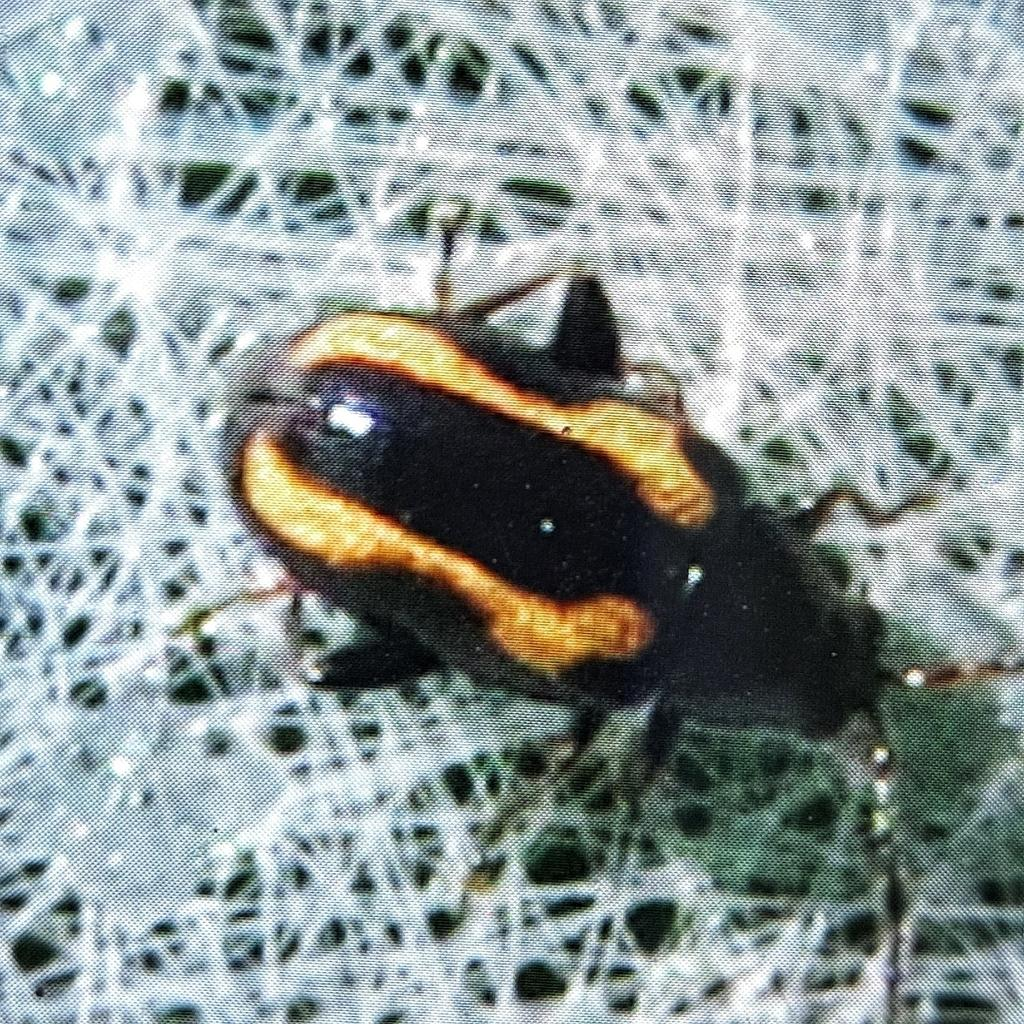flea_beetle: (153, 195, 1024, 915)
